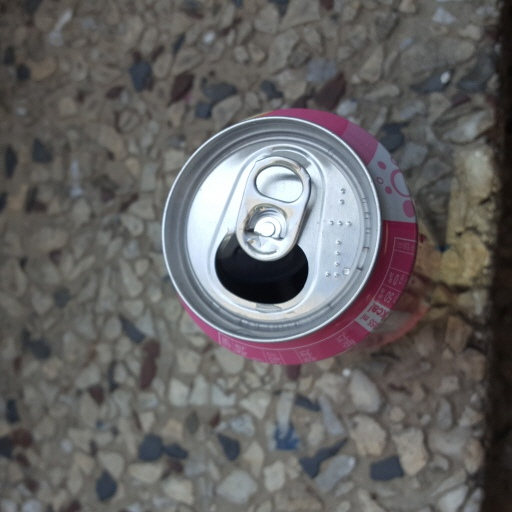Metal_0: (161, 108, 423, 366)
